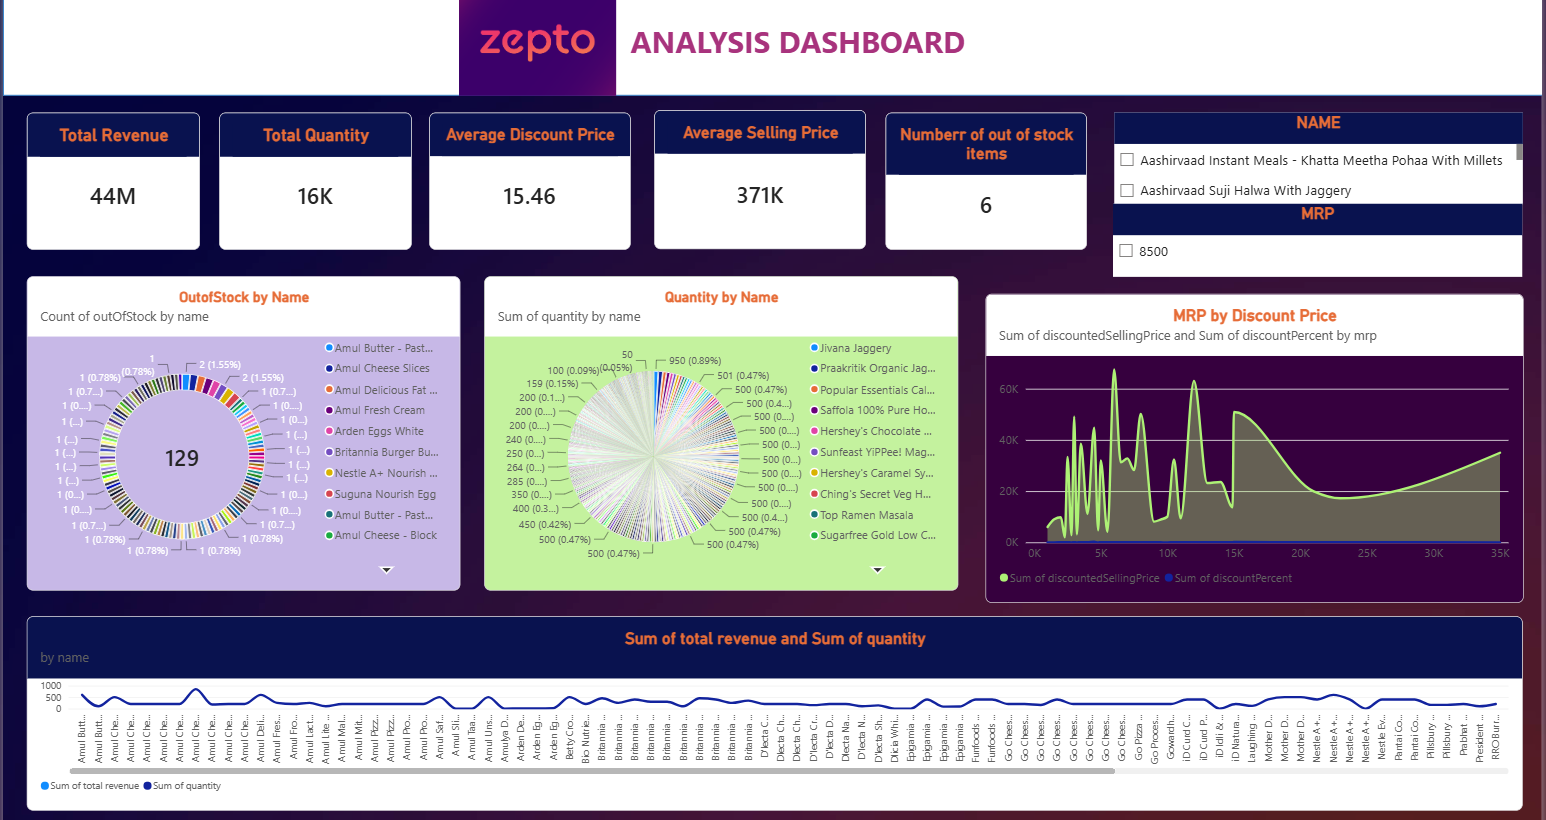

This screenshot's page, from the dashboard's own definition file:
{"tool":"powerbi","page":{"name":"Page 1","canvas":[1920,1080],"ordinal":0},"visuals":[{"type":"shape","box":[0,0,1920.4,131.7],"z":0},{"type":"textbox","box":[0,39.1,1920.4,72],"z":1000},{"type":"image","box":[549.6,0,232.6,131.7],"z":2000},{"type":"card","title":"Total Revenue","fields":{"Values":["Sum(Fruits & Vegetables.Total Revenue)"]},"box":[29.4,152.2,216.2,170.9],"z":3000},{"type":"card","title":"Total Quantity","fields":{"Values":["Sum(Fruits & Vegetables.quantity)"]},"box":[269.6,152.2,240.3,170.9],"z":4000},{"type":"card","title":"Average Discount Price","fields":{"Values":["Avg(Fruits & Vegetables.discountPercent)"]},"box":[531.3,152.2,250.9,170.9],"z":5000},{"type":"card","title":"Average Selling Price","fields":{"Values":["Sum(Fruits & Vegetables.discountedSellingPrice)"]},"box":[811.6,149.5,264.3,173.5],"z":6000},{"type":"card","title":"Numberr of out of stock items","fields":{"Values":["Fruits & Vegetables.Number of Out of Stock"]},"box":[1099.9,152.2,250.9,170.9],"z":7000},{"type":"slicer","title":"NAME","fields":{"Values":["Chocolates & Candies.name"]},"box":[1385.6,152.2,509.9,114.8],"z":8000},{"type":"slicer","title":"MRP","fields":{"Values":["Chocolates & Candies.mrp"]},"box":[1385.1,266.2,510.7,90.9],"z":9000},{"type":"donutChart","title":"OutofStock by Name","fields":{"Category":["Beverages.name"],"Y":["CountNonNull(Beverages.outOfStock)"]},"box":[30.3,357.1,541,391.7],"z":10000},{"type":"pieChart","title":"Quantity by Name","fields":{"Category":["Cooking Essentials.name"],"Y":["Sum(Cooking Essentials.quantity)"]},"box":[599.5,357.1,590.8,391.7],"z":11000},{"type":"areaChart","title":"MRP by Discount Price","fields":{"Category":["Biscuits.mrp"],"Y":["Sum(Biscuits.discountedSellingPrice)","Sum(Biscuits.discountPercent)"]},"box":[1224.9,378.7,670.9,385.2],"z":12000},{"type":"lineChart","fields":{"Category":["Beverages.name"],"Y":["Sum(Beverages.total revenue)","Sum(Beverages.quantity)"]},"box":[30.3,781.3,1865.5,242.4],"z":13000}]}

Visuals, with their boxes on the page's 1920x1080 design canvas (x1, y1, x2, y2). These are canvas units, not pixel positions in the 1546x820 screenshot, which may show the page scaled, cropped or inside an application window:
shape: 0:0:1920:132
textbox: 0:39:1920:111
image: 550:0:782:132
"Total Revenue" card: 29:152:246:323
"Total Quantity" card: 270:152:510:323
"Average Discount Price" card: 531:152:782:323
"Average Selling Price" card: 812:150:1076:323
"Numberr of out of stock items" card: 1100:152:1351:323
"NAME" slicer: 1386:152:1896:267
"MRP" slicer: 1385:266:1896:357
"OutofStock by Name" donutChart: 30:357:571:749
"Quantity by Name" pieChart: 600:357:1190:749
"MRP by Discount Price" areaChart: 1225:379:1896:764
lineChart - Beverages.name x Sum(Beverages.total revenue): 30:781:1896:1024
